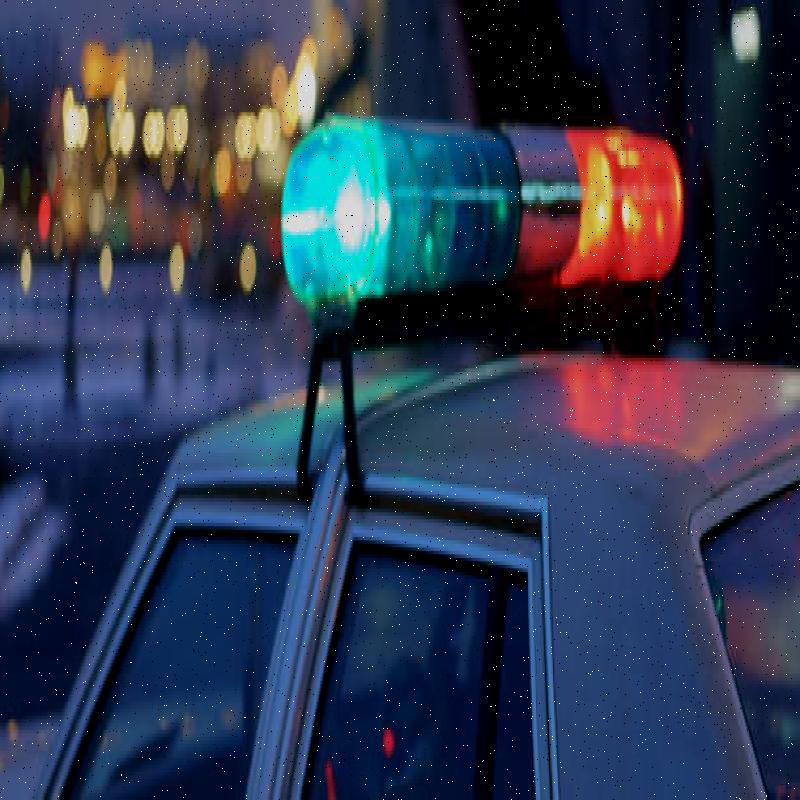AmbulanceSiren: (256, 40, 695, 380)
